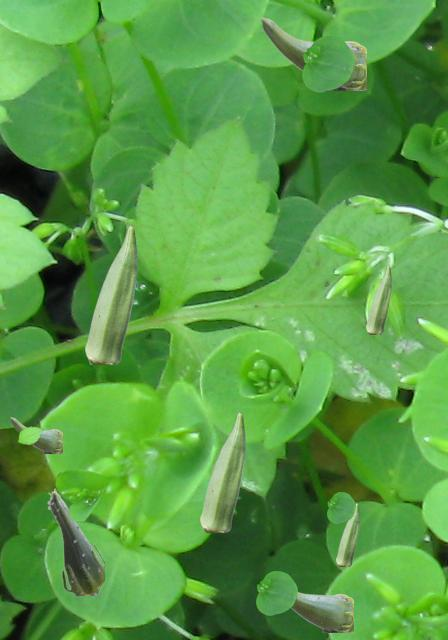okra: (260, 17, 365, 89), (85, 225, 136, 363), (47, 488, 103, 594), (200, 412, 244, 531), (291, 591, 352, 631), (10, 417, 61, 452), (366, 265, 390, 333), (336, 503, 358, 565)
